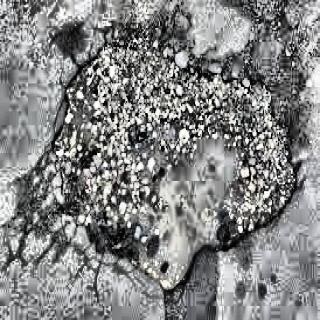pothole: (50, 36, 298, 288)
